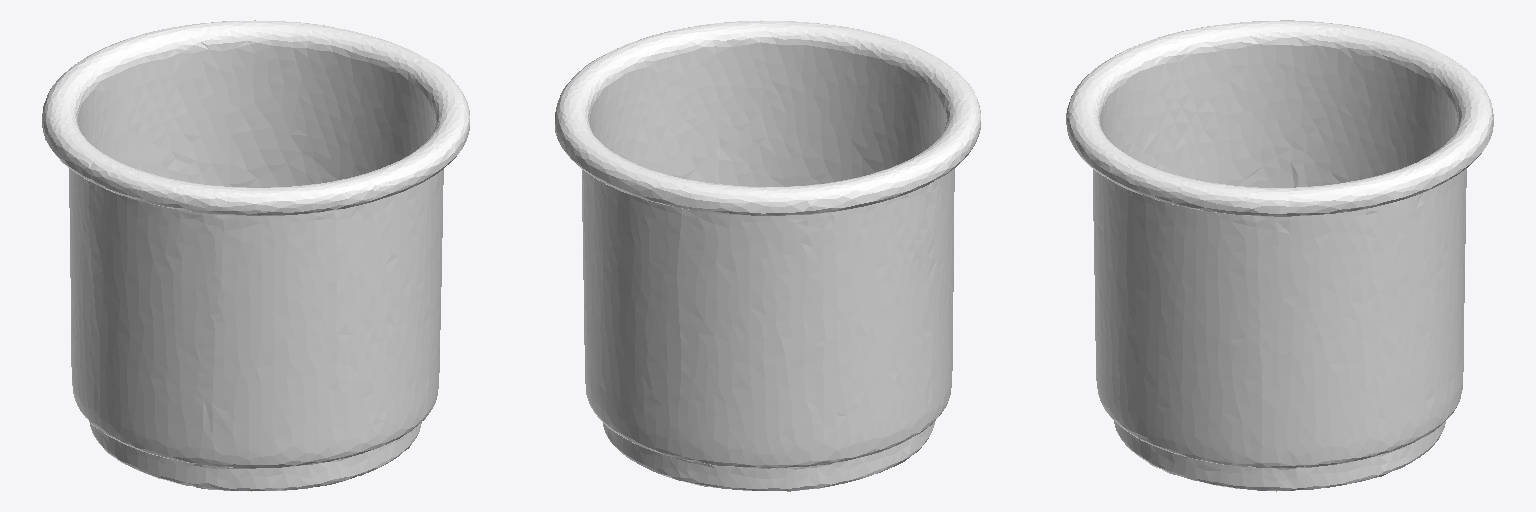
The robot description file, URDF, robot "050_medium_clamp":
<robot name="050_medium_clamp">
	<link name="_name">
		<visual>
			<origin xyz="-0.10827483056379221 0.14903599956658636 -0.1261793488794276" rpy="0 0 0" />
			<geometry>
				<mesh filename="050_medium_clamp/google_16k/textured.obj" scale="10 10 10" />
			</geometry>
			<material name="texture">
				<color rgba="1.0 1.0 1.0 1.0" />
			</material>
		</visual>
		<collision>
			<geometry>
				<mesh filename="050_medium_clamp/google_16k/textured_vhacd.obj" scale="10 10 10" />
			</geometry>
		<origin xyz="-0.10827483056379221 0.14903599956658636 -0.1261793488794276" rpy="0 0 0" /></collision>
		<inertial>
			<mass value="1.0" />
			<inertia ixx="1.0" ixy="0.0" ixz="0.0" iyy="1.0" iyz="0.0" izz="1.0" />
		</inertial>
	</link>
</robot>

--- Facts derived from the render (not from the file) ---
The picture shows the robot from 3 angles, left to right: view 1: azimuth 30°, elevation 25°; view 2: azimuth 150°, elevation 25°; view 3: azimuth 270°, elevation 25°; orthographic projection.
Model 050_medium_clamp with 1 links and 0 joints (none), rooted at _name, posed every joint at zero.
Links seen in each view (by area): view 1: _name; view 2: _name; view 3: _name.
Link boxes in pixels (<box>): _name: <box>42,20,469,491</box>; _name: <box>555,20,980,491</box>; _name: <box>1066,20,1493,491</box>.
Bounding box of the posed robot: 0.915 × 0.9162 × 0.7506 m (x, y, z).
Meshes: 1 distinct files referenced, 1 mesh visuals loaded (1 OBJ).